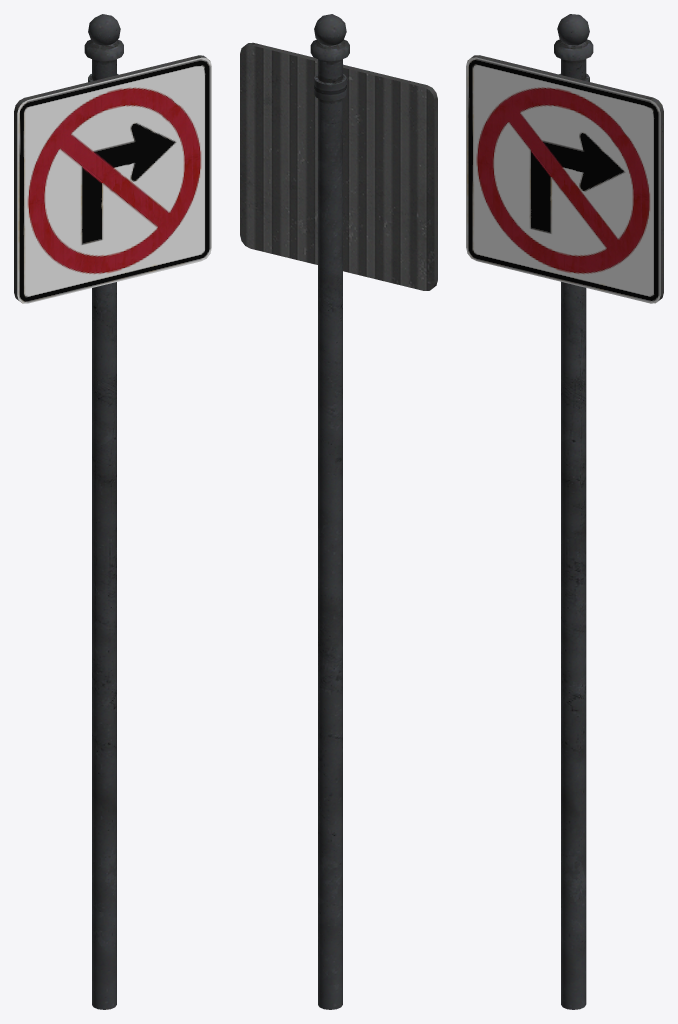
File: Road_Sign_06.fbx
3 views of the same model, side by side, from view 1: azimuth 30°, elevation 25°; view 2: azimuth 150°, elevation 25°; view 3: azimuth 330°, elevation 25° (orthographic).
Visible parts, largest first — view 1: Road_Sign_06_LOD0; view 2: Road_Sign_06_LOD0; view 3: Road_Sign_06_LOD0.
Part boxes in pixels (x1,y1,x2,y2): Road_Sign_06_LOD0: (14,14,211,1009); Road_Sign_06_LOD0: (240,14,437,1009); Road_Sign_06_LOD0: (466,14,663,1009).
Size of what is drawn, in the model's own units: 44.68 by 217 by 7.96.
